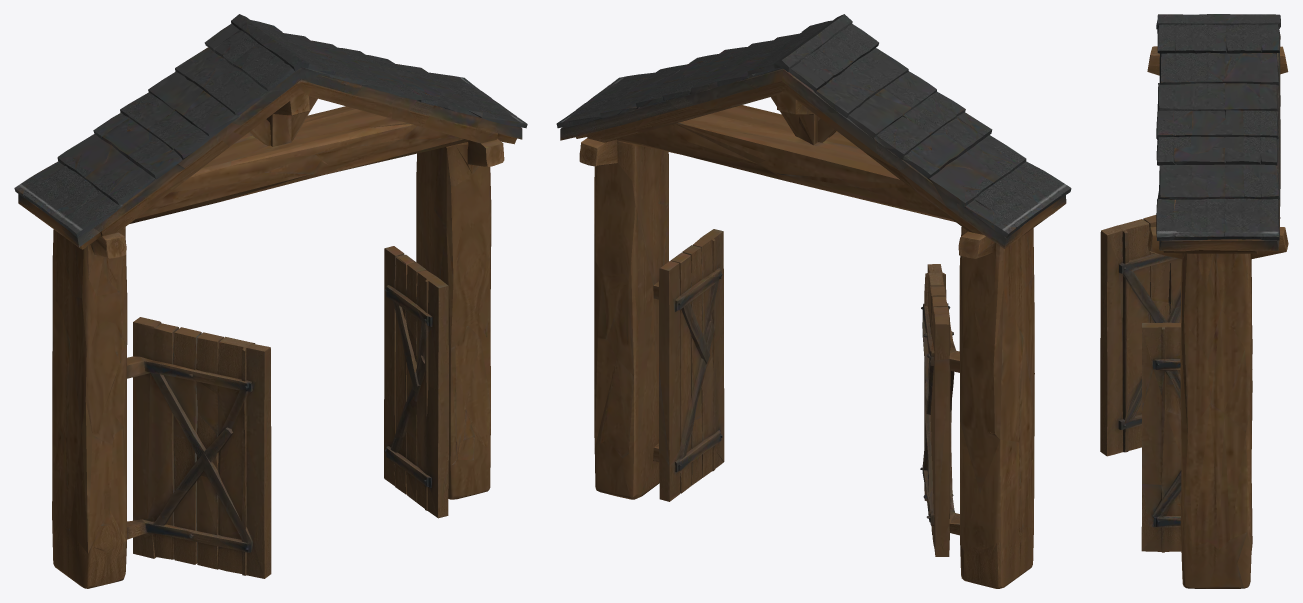
The model's file is gate.glb.
3 views of the same model, side by side, from view 1: azimuth 30°, elevation 25°; view 2: azimuth 150°, elevation 25°; view 3: azimuth 270°, elevation 25° (orthographic). The views are drawn at different scales.
Visible parts, largest first — view 1: output_unwrapped; view 2: output_unwrapped; view 3: output_unwrapped.
Boxes of the visible parts, x1,y1,x2,y2 form: output_unwrapped: (14,14,527,588); output_unwrapped: (556,14,1071,588); output_unwrapped: (1100,14,1288,588).
Bounding box in the file's own units: 1.82 × 1.9 × 0.676.
1 material, 1 textured.
